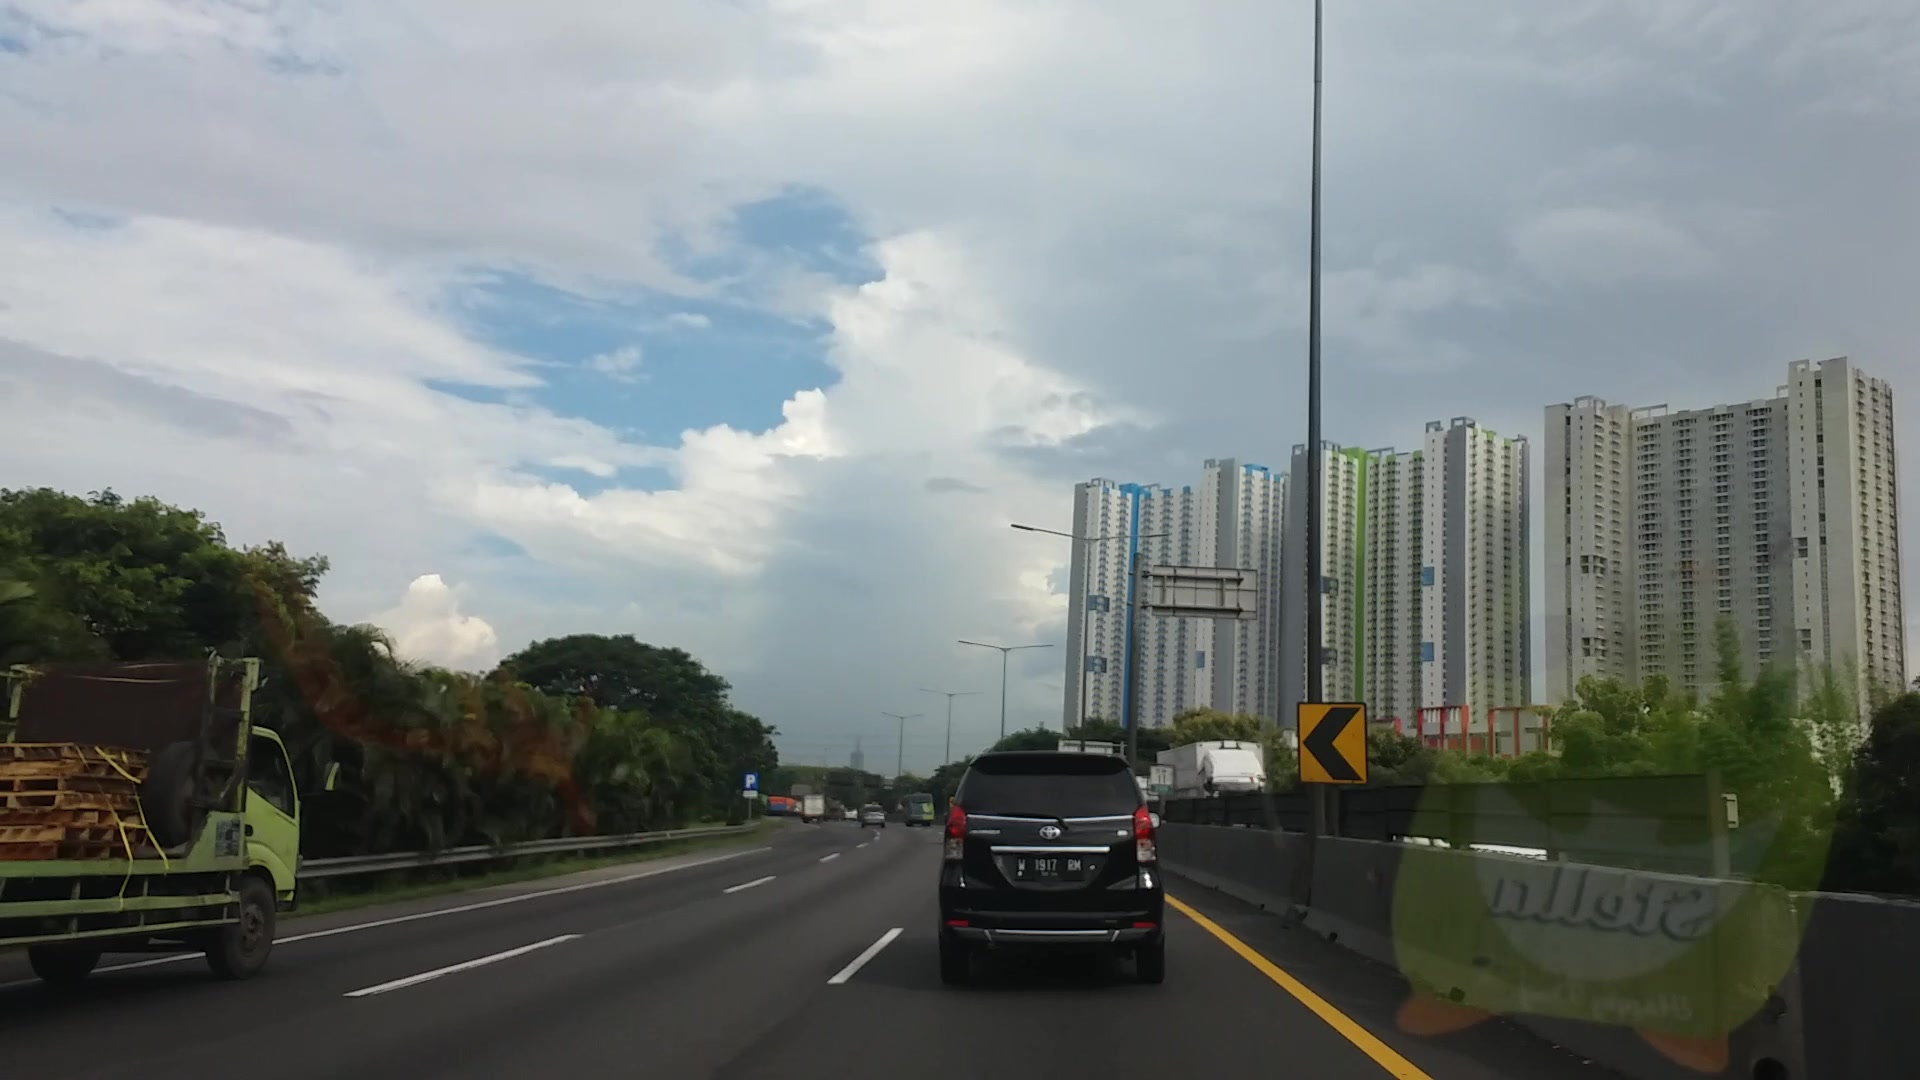plate_positive: (1015, 855, 1083, 881)
